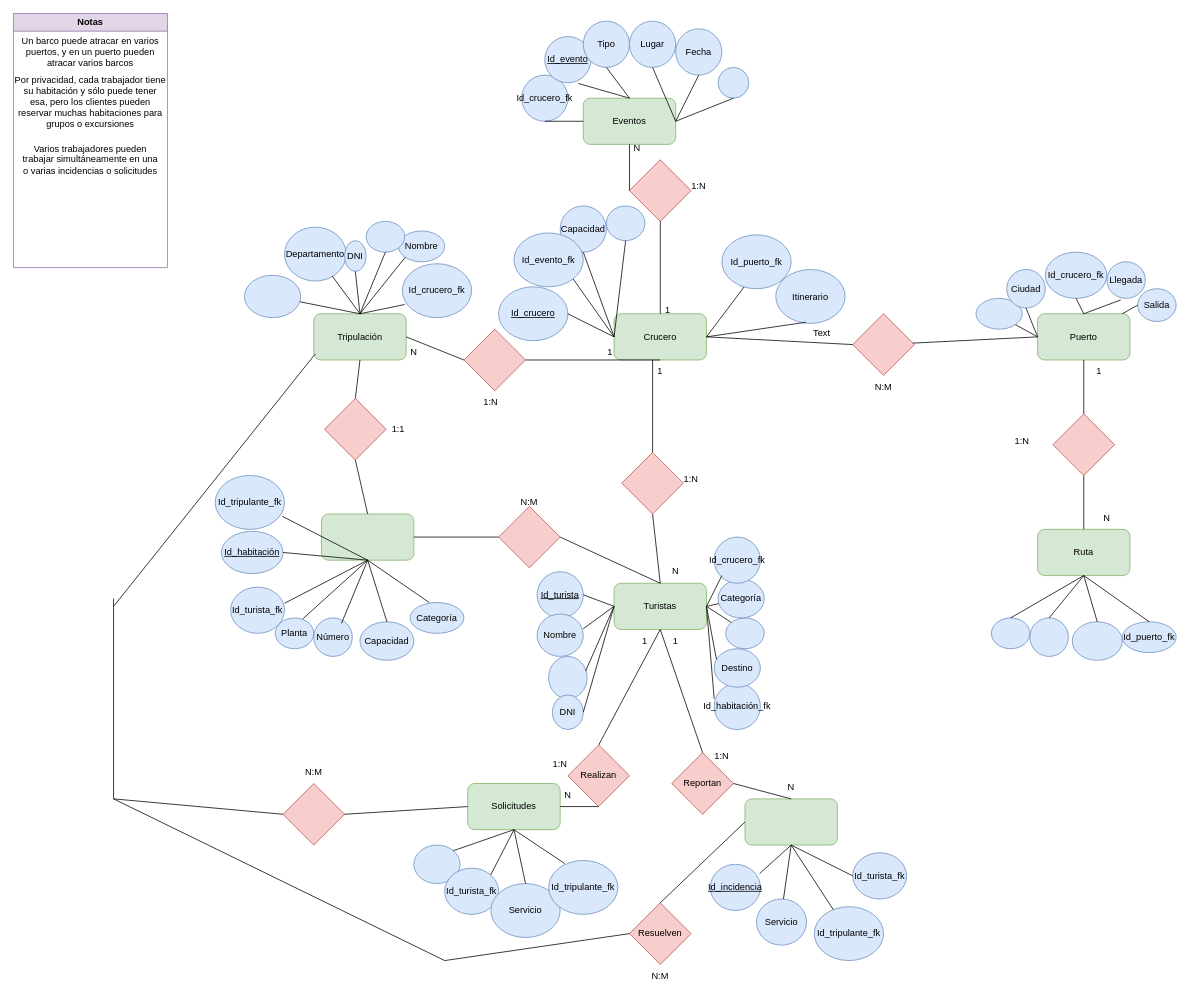
Image size: 1190x1001. Some labels were removed from this diagram. Here are the shapes that lost their labels. From the top down, the centre of each, then its label:
At (733,82): "Hora".
At (660,190): "Organiza".
At (385,236): "Apellido".
At (625,223): "Zonas".
At (272,296): "Id_tripulante".
At (998,313): "Id_puerto".
At (494,359): "Tiene".
At (883,344): "Llega_a".
At (355,429): "Residen_en".
At (1083,444): "Conectados_por".
At (652,483): "Hospeda".
At (367,536): "Habitación".
At (529,537): "Reservan".
At (744,633): "Orígen".
At (1010,633): "Id_ruta".
At (1048,636): "Longitud".
At (1096,640): "Duración".
At (567,677): "Apellidos".
At (313,814): "Cumplen".
At (790,821): "Incidencias".
At (436,864): "Id_solicitud".
